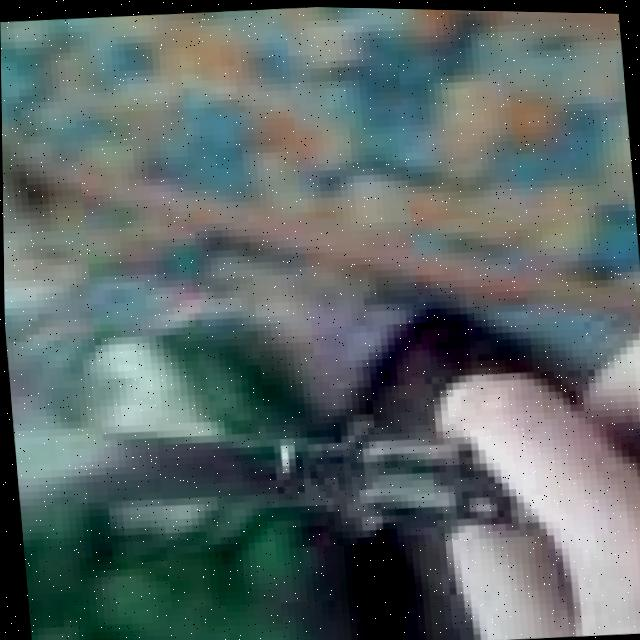knife: (8, 356, 510, 562)
